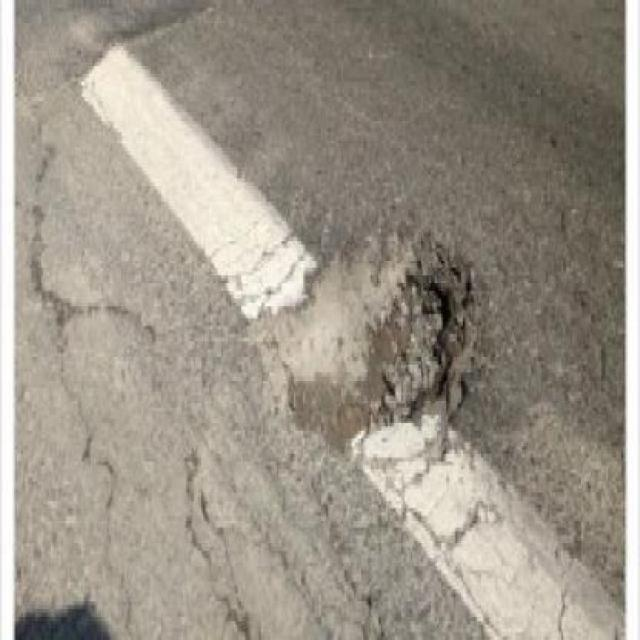Buraco: (231, 226, 487, 468)
